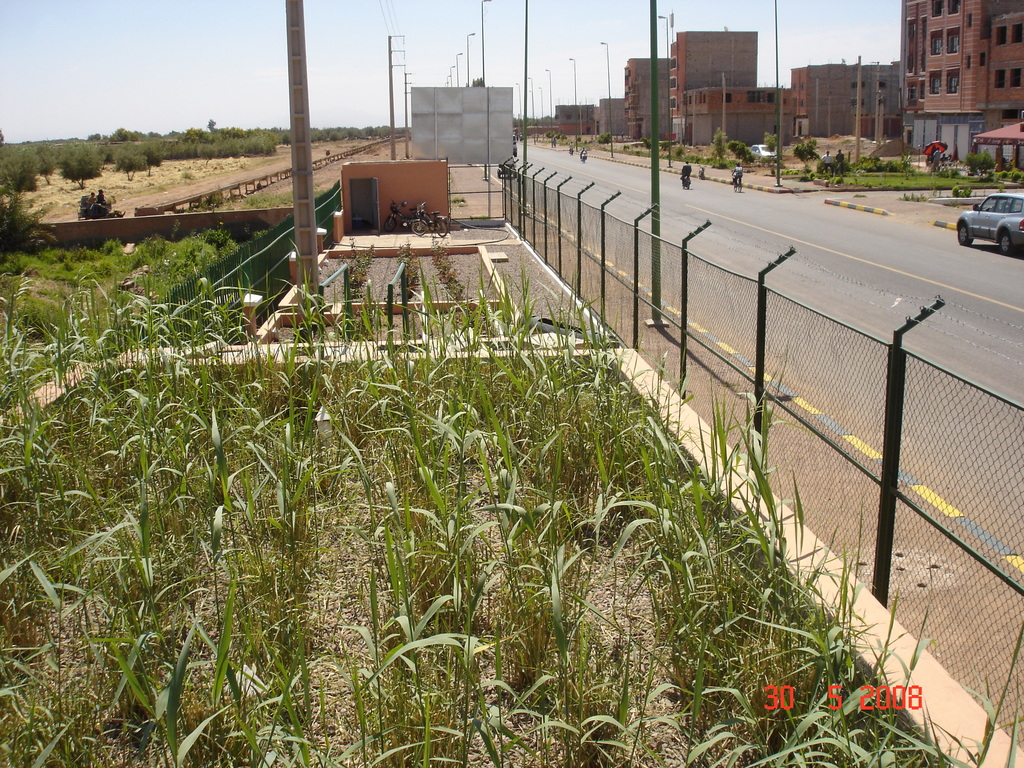Tree: (0, 125, 296, 194)
